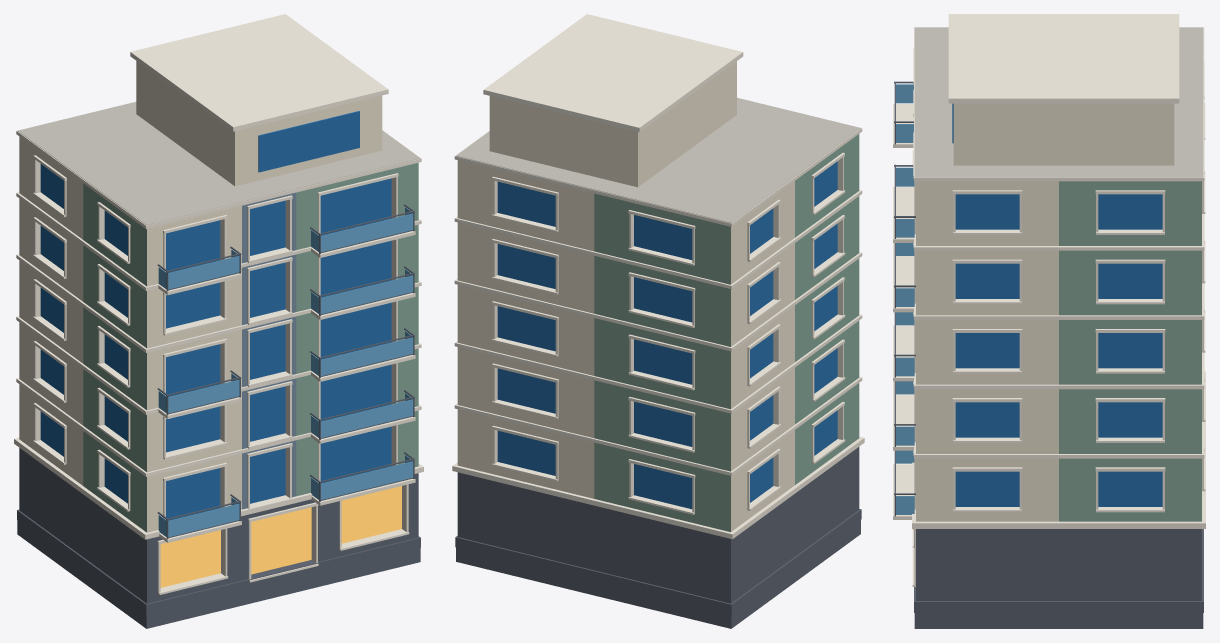
File: 02b_modern_setback-lod1.glb
3 views of the same model, side by side, from view 1: azimuth 30°, elevation 25°; view 2: azimuth 150°, elevation 25°; view 3: azimuth 270°, elevation 25° (orthographic). The views are drawn at different scales.
Parts seen in each view (by area): view 1: ModernSetback_LOD1; view 2: ModernSetback_LOD1; view 3: ModernSetback_LOD1.
Part boxes in pixels (x1,y1,x2,y2): ModernSetback_LOD1: (14,14,423,628); ModernSetback_LOD1: (452,14,864,628); ModernSetback_LOD1: (893,14,1205,628).
Size of the model in its own units: 14.36 by 22.93 by 12.48.
2 materials, 2 textured.
